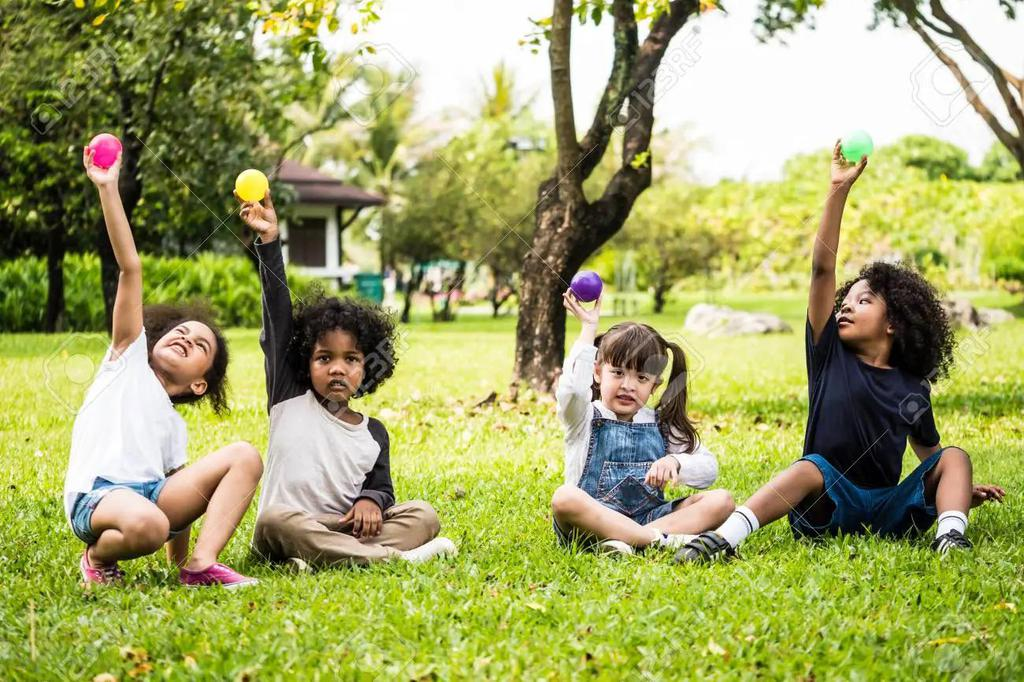child: (684, 118, 997, 575), (33, 124, 257, 603), (221, 176, 466, 569), (522, 268, 715, 568)
